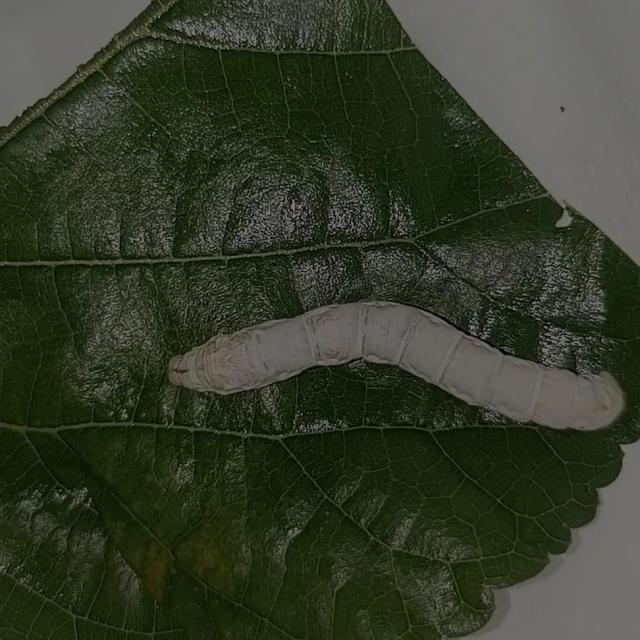Healthy: (144, 277, 632, 459)
